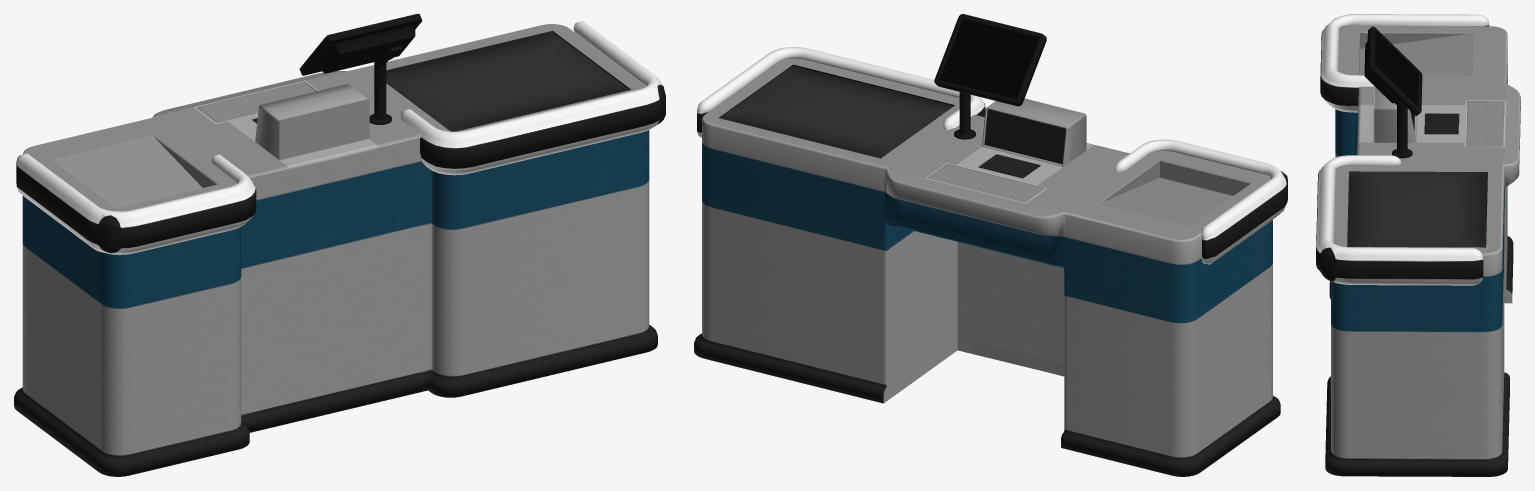
The model's file is caja.glb.
The picture shows the model from 3 angles, left to right: view 1: azimuth 30°, elevation 25°; view 2: azimuth 150°, elevation 25°; view 3: azimuth 270°, elevation 25°; orthographic projection. The views are drawn at different scales.
Visible parts, largest first — view 1: pied_ecran; view 2: pied_ecran; view 3: pied_ecran.
Boxes of the visible parts, x1=… form: pied_ecran: x1=14, y1=14, x2=665, y2=476; pied_ecran: x1=694, y1=14, x2=1287, y2=476; pied_ecran: x1=1316, y1=14, x2=1520, y2=476.
Size of the model in its own units: 2 by 1.23 by 0.7172.
Materials: 3 (2 with a texture image).
